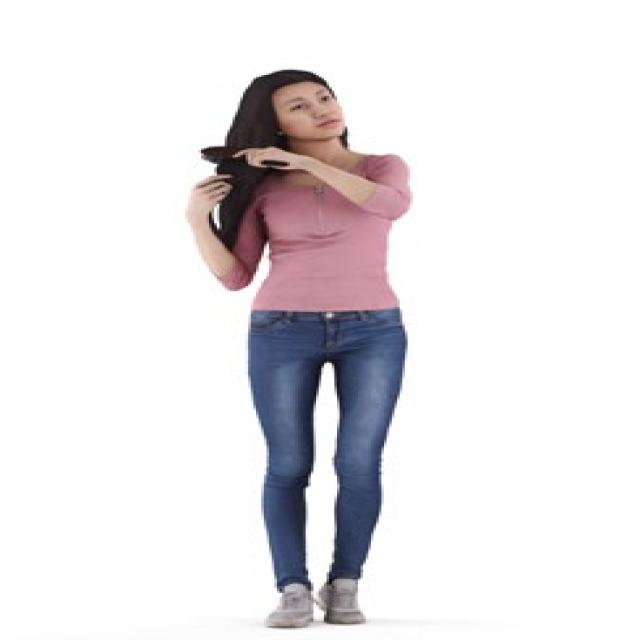standing: (181, 67, 412, 629)
